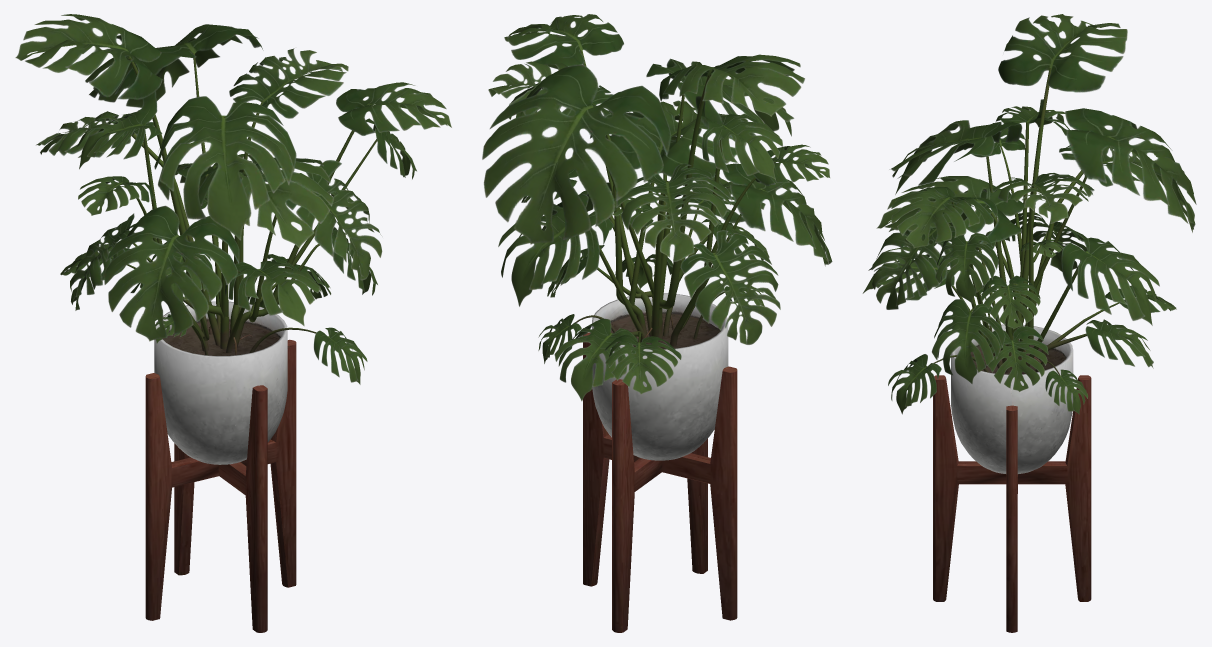
Rendered from monstera.glb.
3 renders of one model, left to right at view 1: azimuth 30°, elevation 25°; view 2: azimuth 150°, elevation 25°; view 3: azimuth 270°, elevation 25°, orthographic. The views are drawn at different scales.
Parts seen in each view (by area): view 1: Leaves_Mat_1_0, Pot_LP_Mat_0, root_HP_1_Mat_2_0; view 2: Leaves_Mat_1_0, Pot_LP_Mat_0, root_HP_1_Mat_2_0; view 3: Leaves_Mat_1_0, Pot_LP_Mat_0, root_HP_1_Mat_2_0.
Part boxes in pixels (x1,y1,x2,y2): Leaves_Mat_1_0: [15, 14, 451, 384]; Pot_LP_Mat_0: [145, 301, 296, 632]; root_HP_1_Mat_2_0: [124, 53, 376, 355]; Leaves_Mat_1_0: [482, 14, 832, 401]; Pot_LP_Mat_0: [583, 293, 737, 632]; root_HP_1_Mat_2_0: [559, 50, 756, 346]; Leaves_Mat_1_0: [862, 14, 1196, 414]; Pot_LP_Mat_0: [933, 324, 1091, 632]; root_HP_1_Mat_2_0: [933, 68, 1124, 375].
Bounding box in the file's own units: 0.7988 × 1.25 × 0.7267.
Materials: 3 (3 with a texture image).
